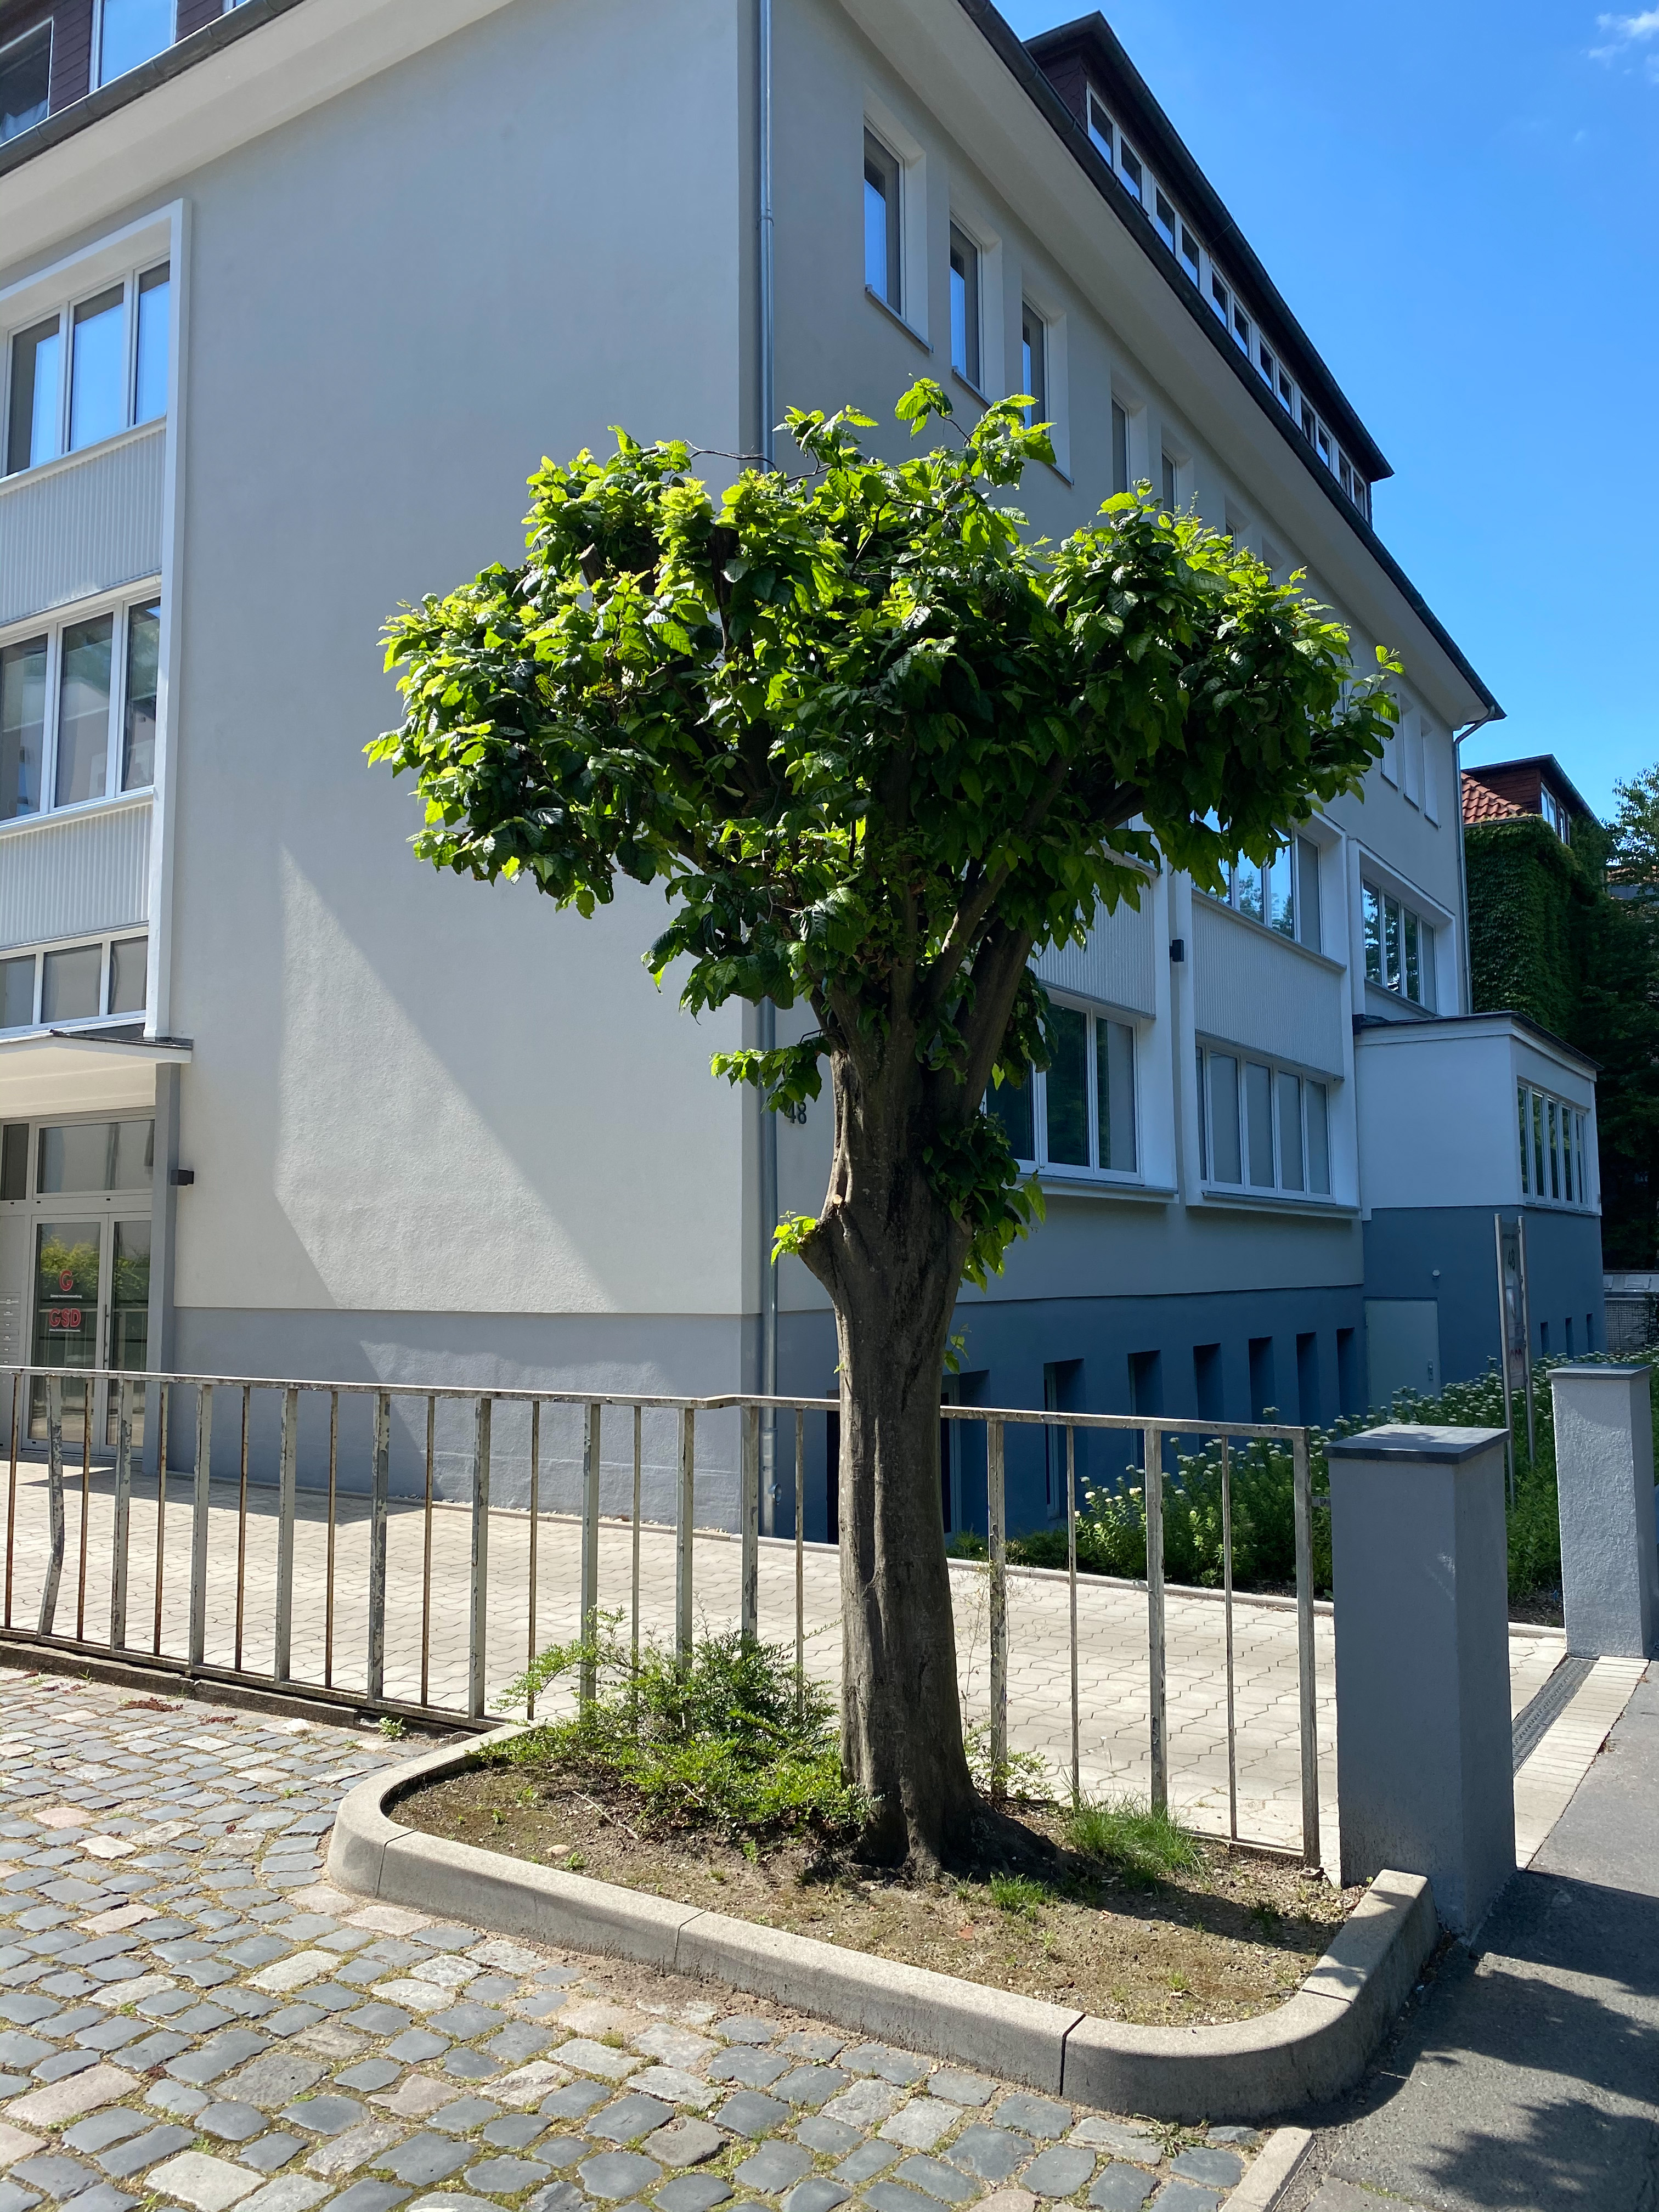tree: (359, 371, 1406, 1883)
